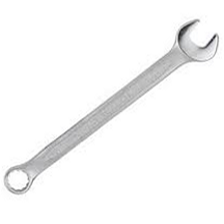Wrench: (13, 11, 221, 200)
